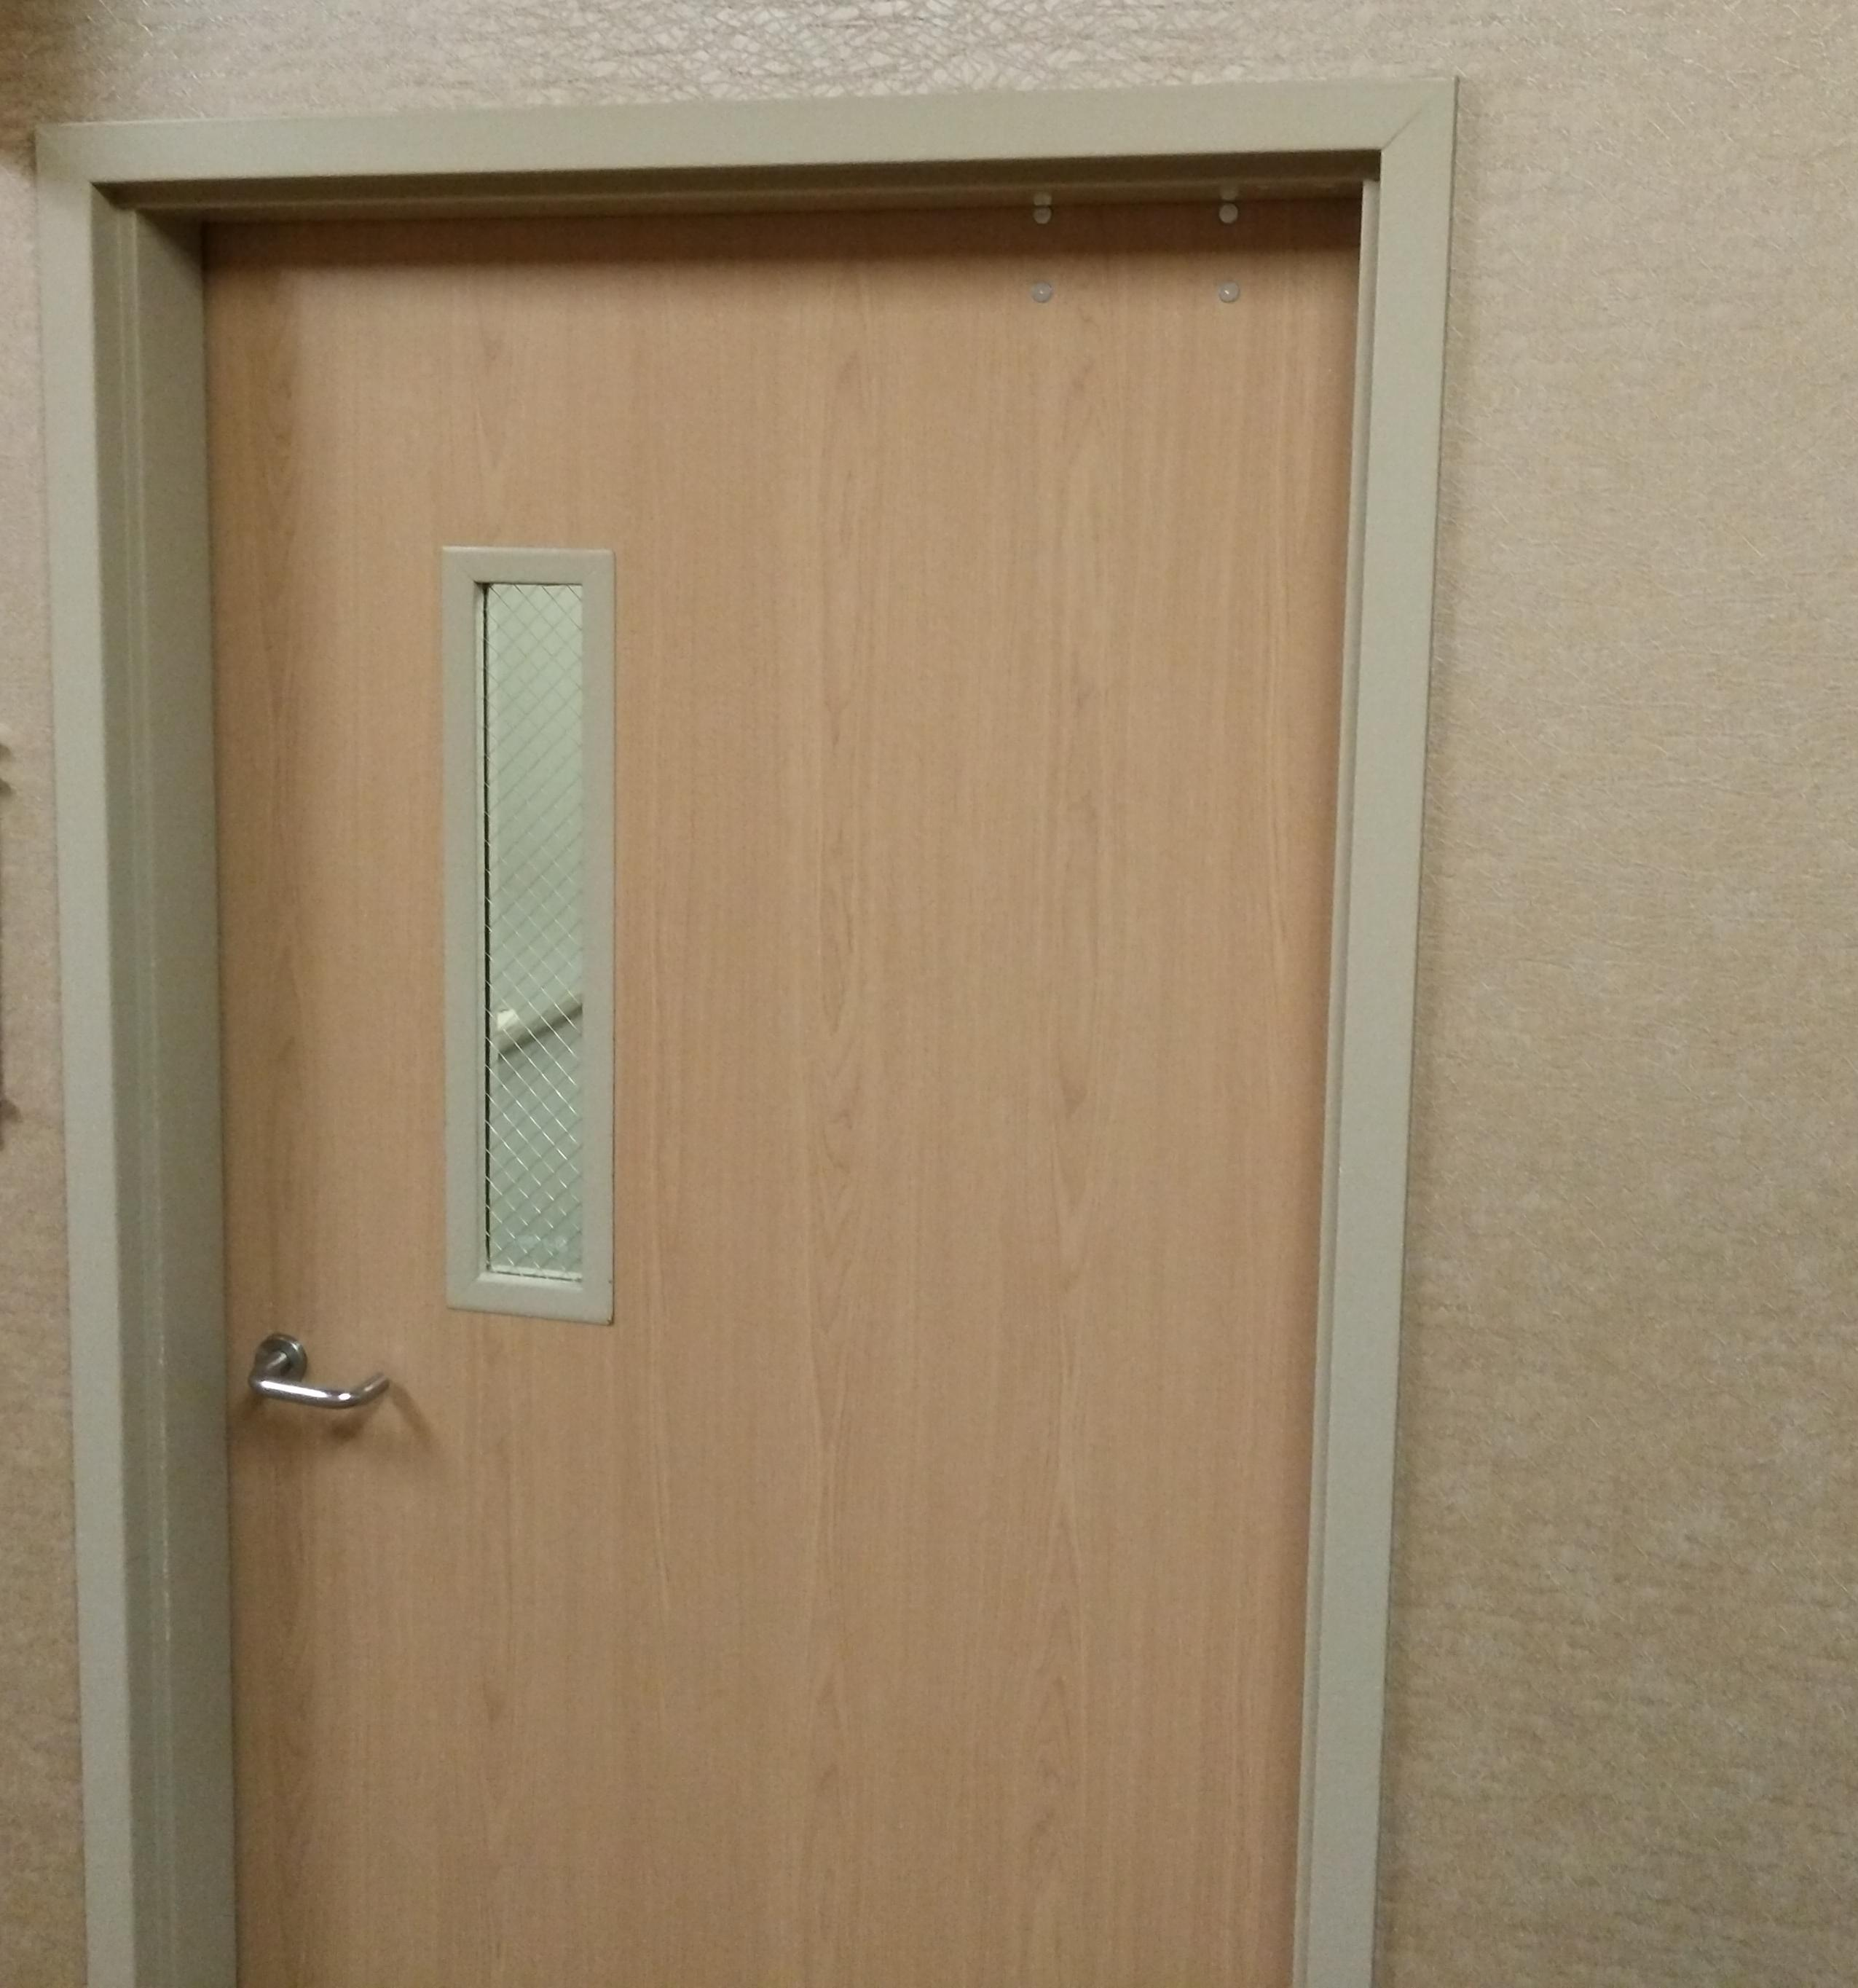handle: (236, 1359, 400, 1446)
